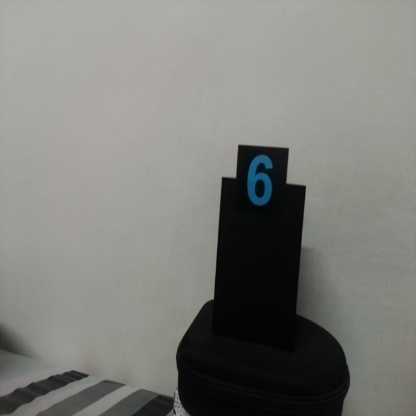id_6: (238, 145, 286, 224)
